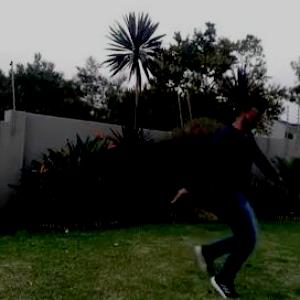land: (167, 94, 290, 296)
